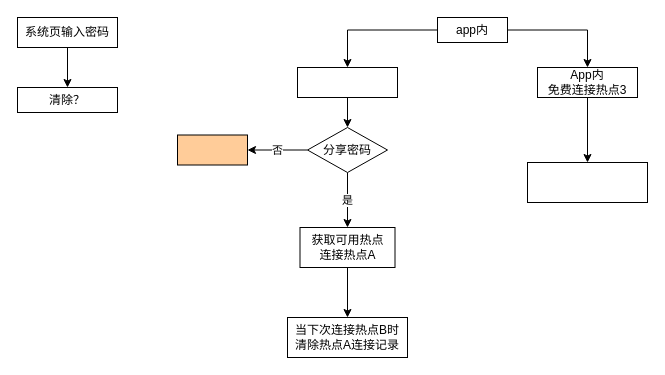
Image size: 665x375. Some labels were removed from this diagram. Each missing label, with the box of its shape:
App内 输入密码: (296, 66, 398, 98)
保存热点: (176, 134, 248, 165)
当下次连接热点4时 清除热点3密码: (526, 162, 648, 202)
